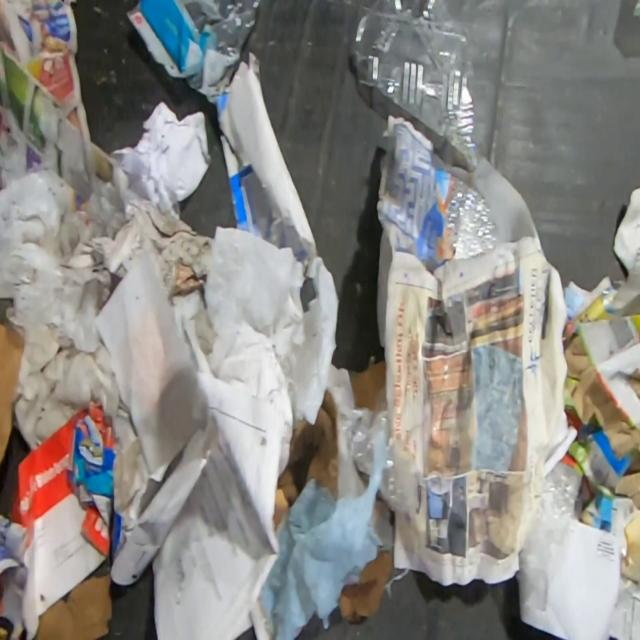cardboard: (33, 573, 113, 640)
rigid_plastic: (342, 0, 479, 172), (437, 172, 500, 265)
soft_plastic: (126, 0, 262, 106), (514, 444, 583, 616), (336, 377, 420, 515)
